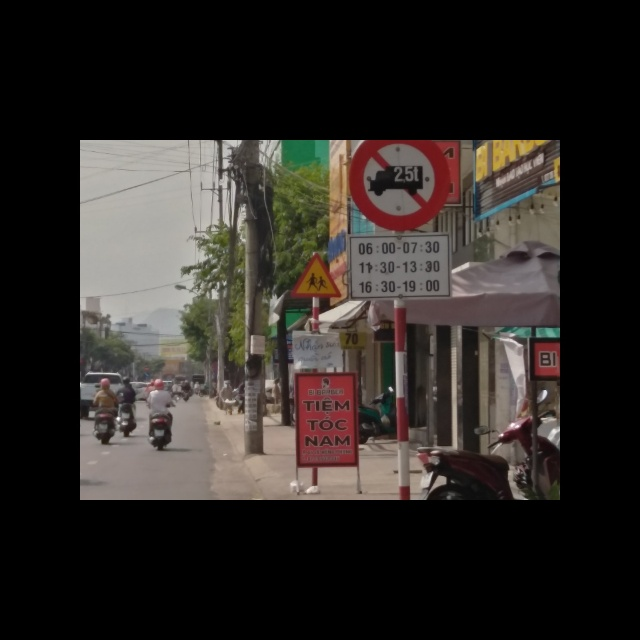Cấm xe tải: (345, 140, 452, 232)
Trẻ em ngang qua: (291, 251, 343, 297)
